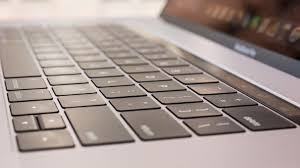keyboard: (5, 34, 291, 168)
